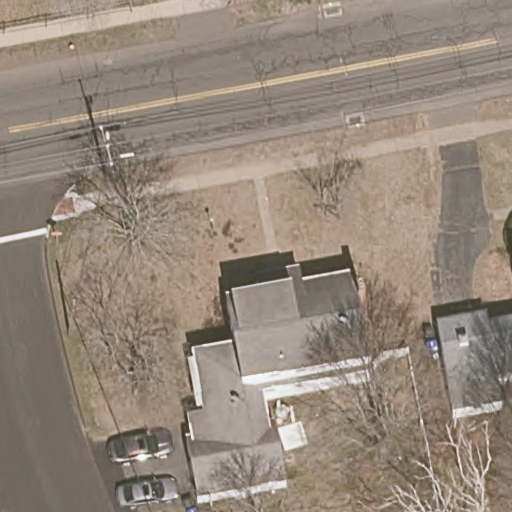DT: (89, 119, 134, 168)
